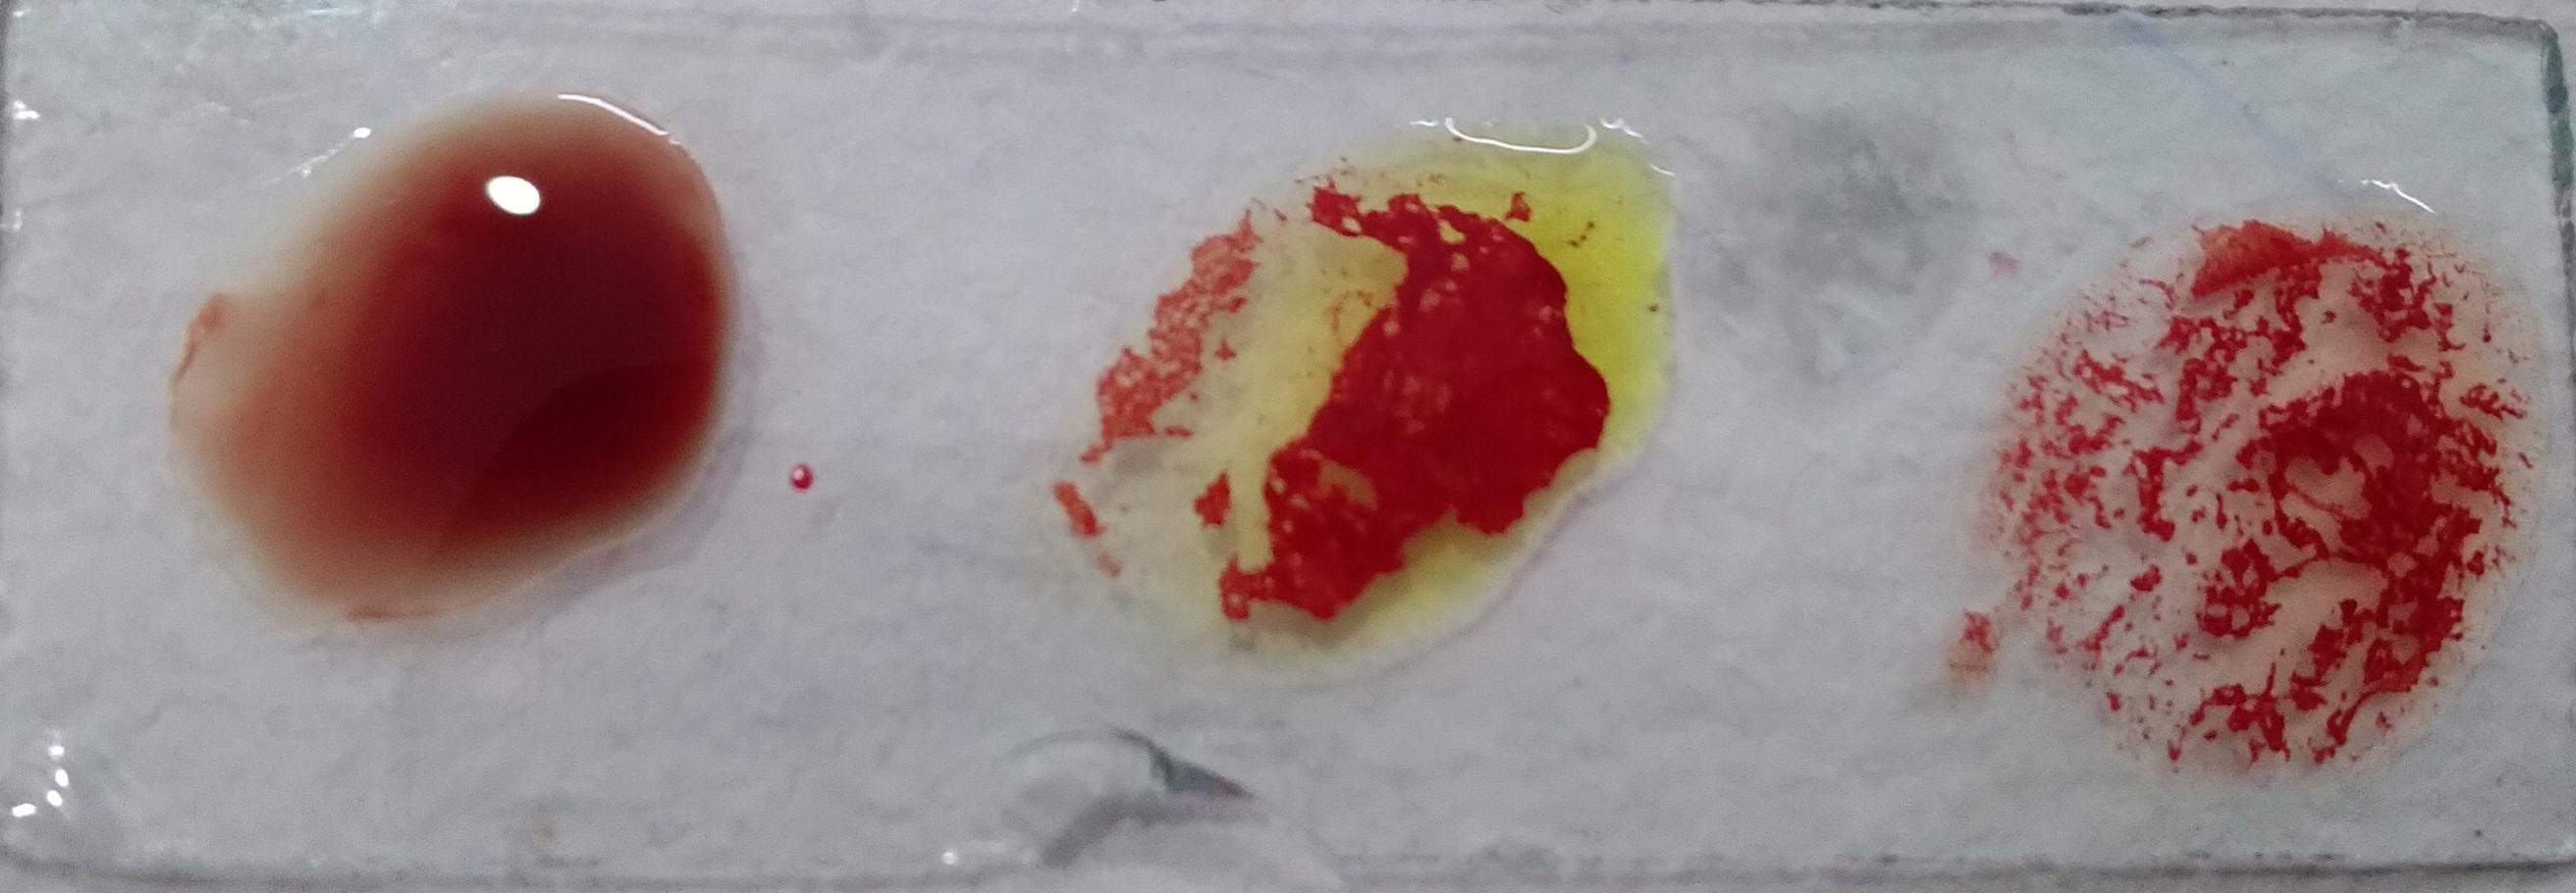B: (900, 199, 1511, 745)
D: (56, 100, 570, 686)
